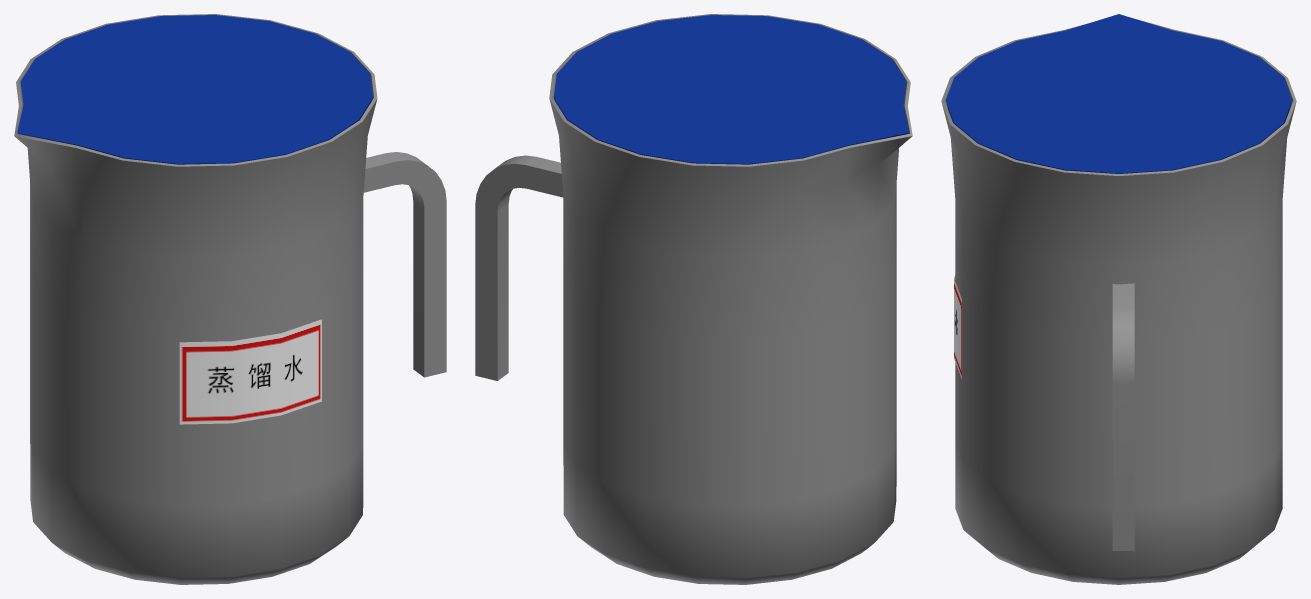
The model's file is SM_蒸馏水.FBX.
3 views of the same model, side by side, from view 1: azimuth 30°, elevation 25°; view 2: azimuth 150°, elevation 25°; view 3: azimuth 270°, elevation 25° (orthographic). The views are drawn at different scales.
Visible parts, largest first — view 1: SM_蒸馏水; view 2: SM_蒸馏水; view 3: SM_蒸馏水.
Boxes of the visible parts, x1=… form: SM_蒸馏水: x1=14, y1=14, x2=446, y2=584; SM_蒸馏水: x1=475, y1=14, x2=912, y2=584; SM_蒸馏水: x1=941, y1=14, x2=1296, y2=584.
Bounding box in the file's own units: 144 × 138 × 106.
